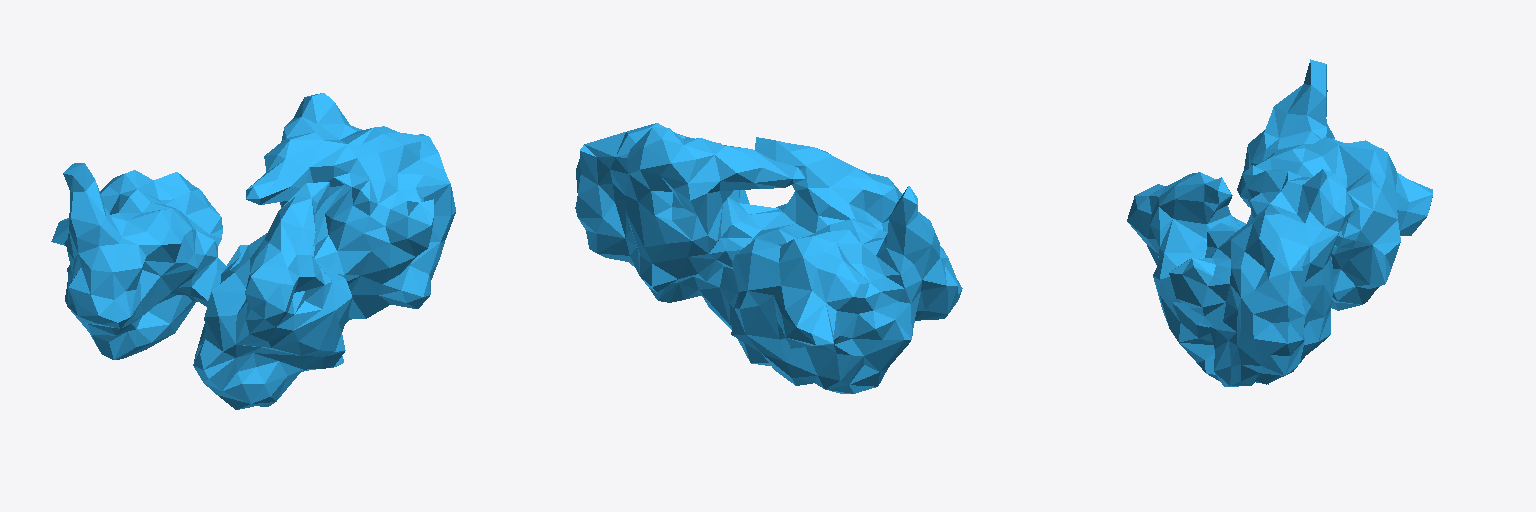
Rendered from peg.obj.
3 views of the same model, side by side, from view 1: azimuth 30°, elevation 25°; view 2: azimuth 150°, elevation 25°; view 3: azimuth 270°, elevation 25° (orthographic).
Visible parts, largest first — view 1: CoarseMS_1bs4; view 2: CoarseMS_1bs4; view 3: CoarseMS_1bs4.
Boxes of the visible parts, <box> form: CoarseMS_1bs4: <box>51,93,455,409</box>; CoarseMS_1bs4: <box>575,123,962,393</box>; CoarseMS_1bs4: <box>1127,59,1432,386</box>.
Size of the model in its own units: 93.31 by 58.92 by 65.6.